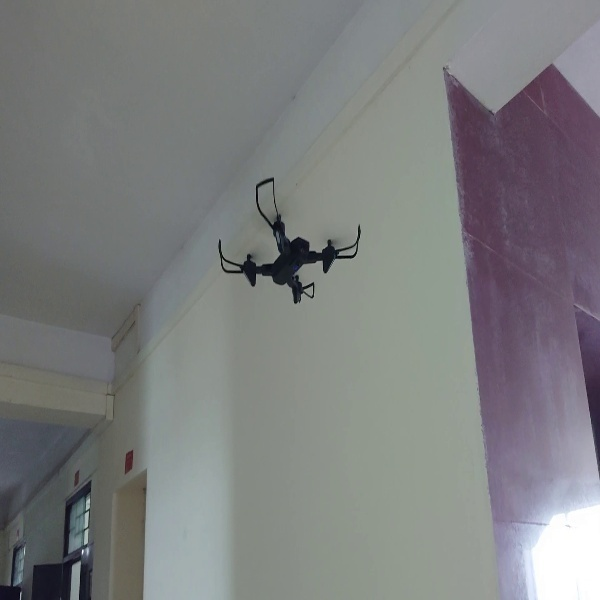drone: (214, 174, 364, 308)
